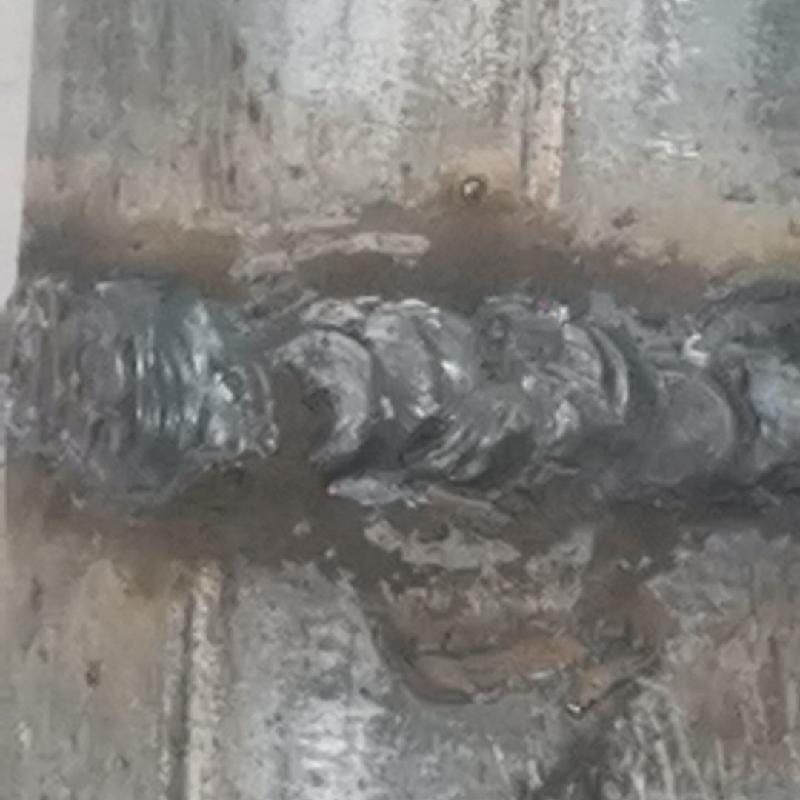good: (1, 261, 799, 504)
